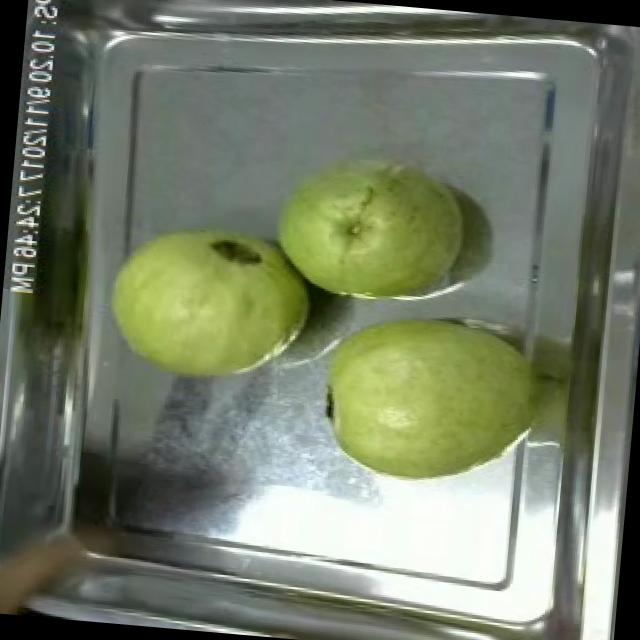Fruit: (306, 292, 540, 498), (94, 210, 326, 398), (260, 146, 478, 320)
